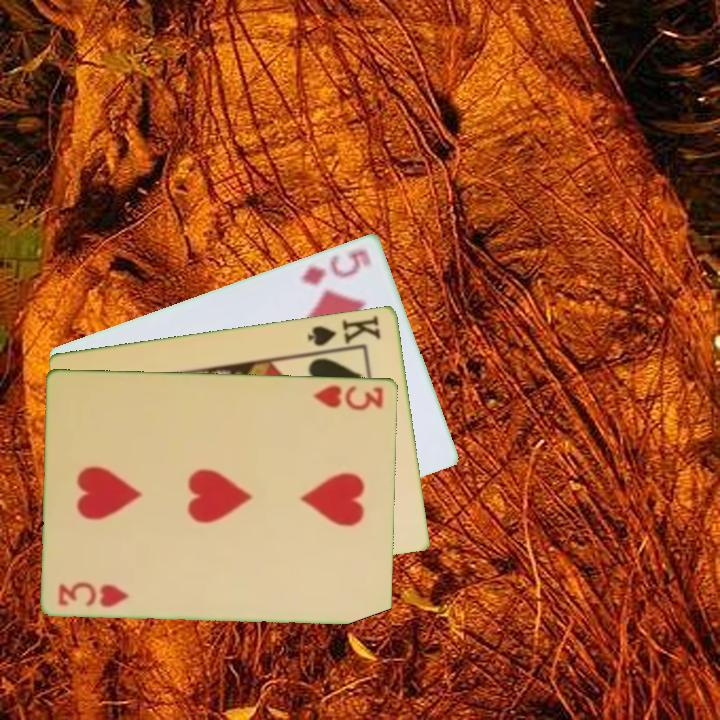3h: (310, 381, 386, 413), (55, 578, 132, 609)
5d: (297, 245, 375, 288)
Ks: (305, 312, 384, 355)
